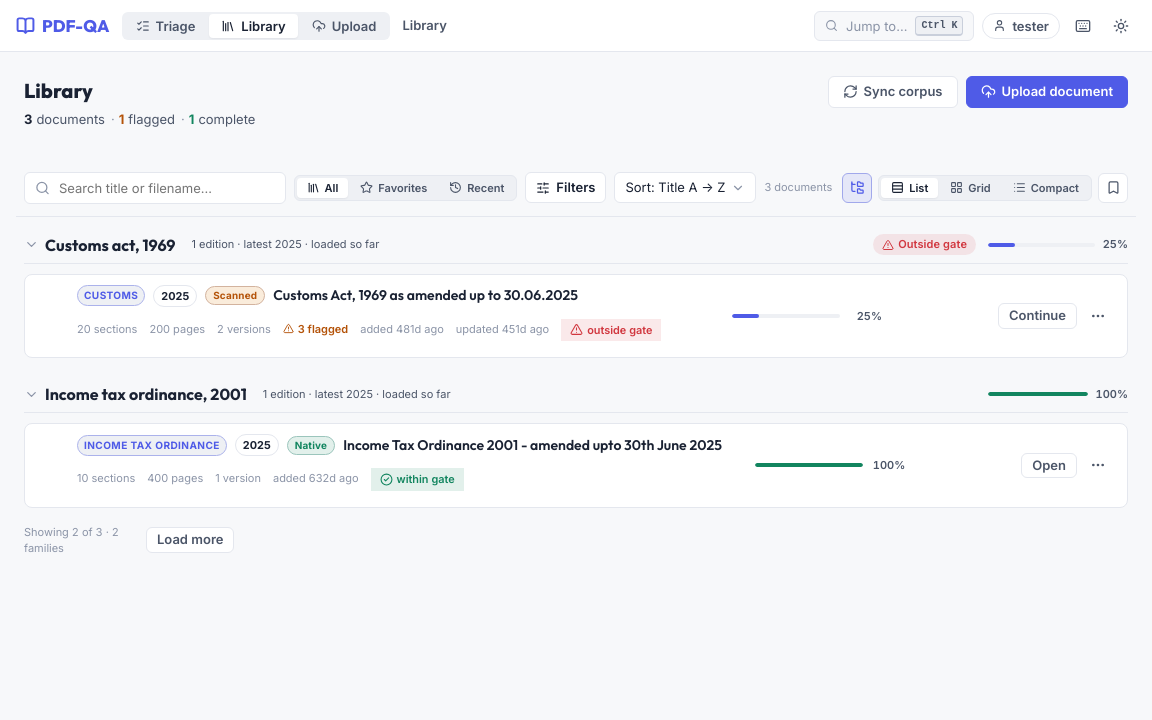
Test: Library page › loads the next cursor page from the footer button
Expected: the text "Showing 2 of 3 · 2 families" is shown, [24,524,134,557]
Click the button "Load more" at x=190, y=540, box [146,528,234,553]
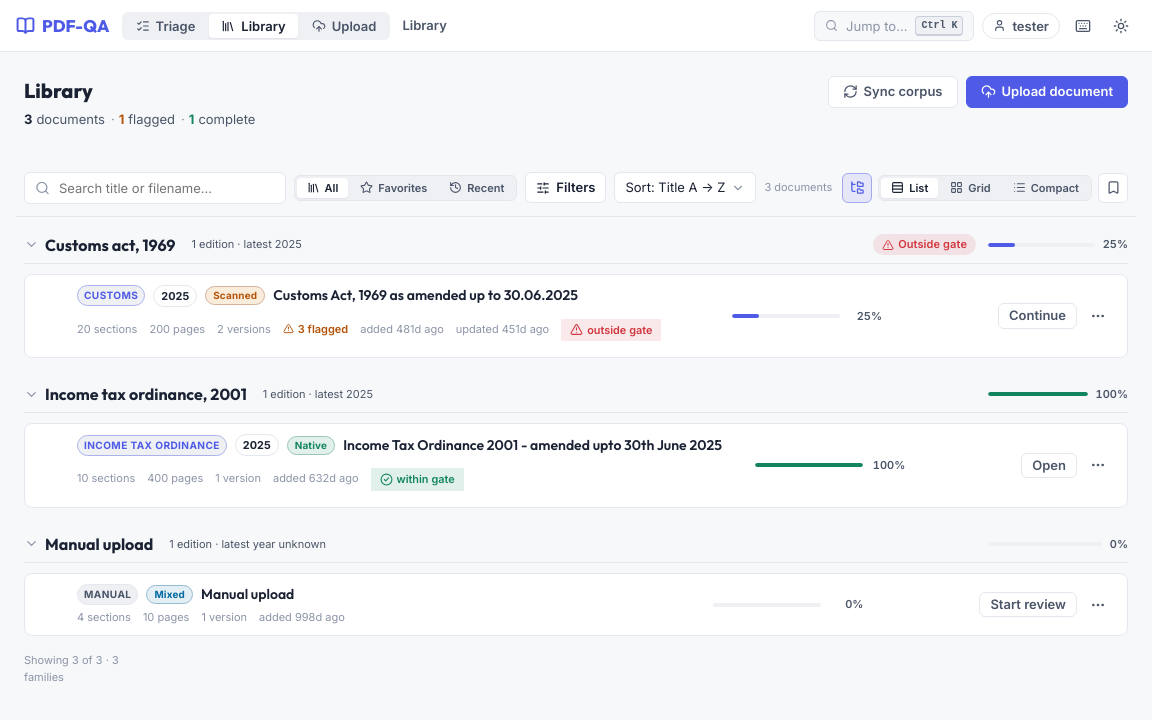
Expected: the text "Showing 3 of 3 · 3 families" is shown, [24,653,119,684]
Expected: the button "Load more" is gone
